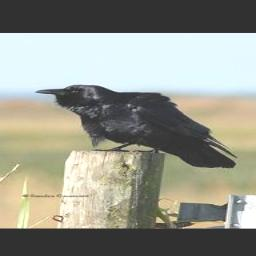Crow: (33, 84, 240, 170)
